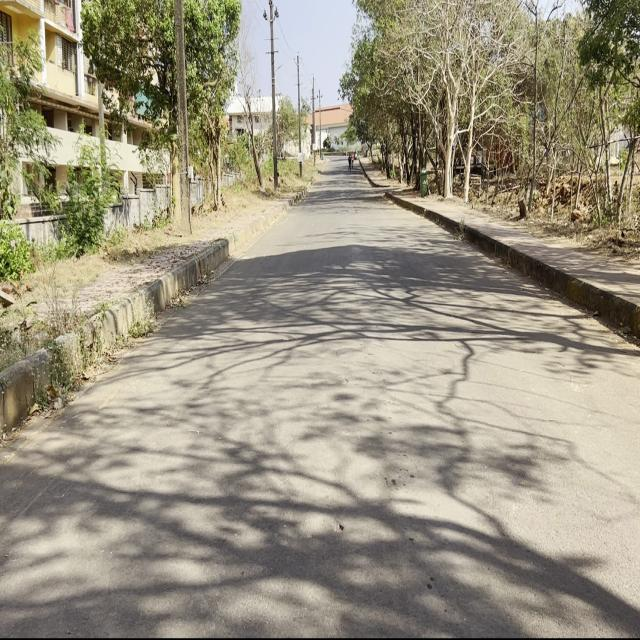Road: (3, 159, 638, 632)
